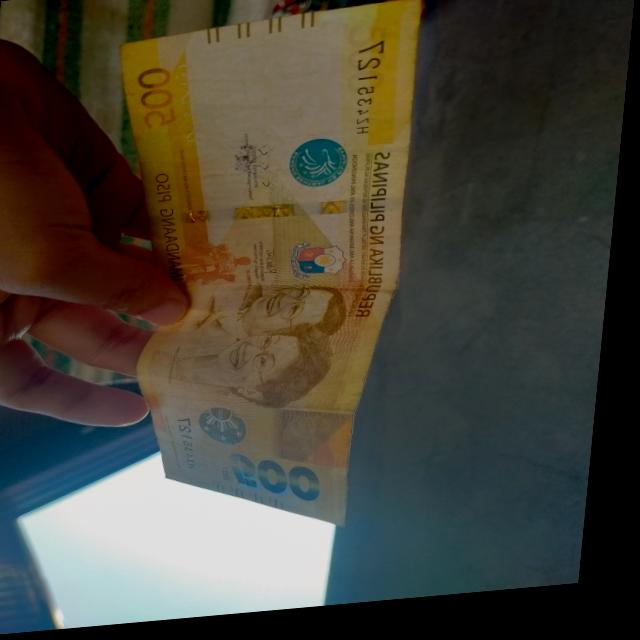concealed_value: (272, 410, 364, 484)
optically_variable_device: (194, 401, 270, 464)
security_thread: (130, 199, 412, 239)
see_through_mark: (171, 55, 219, 156)
watermark: (182, 37, 358, 160)
